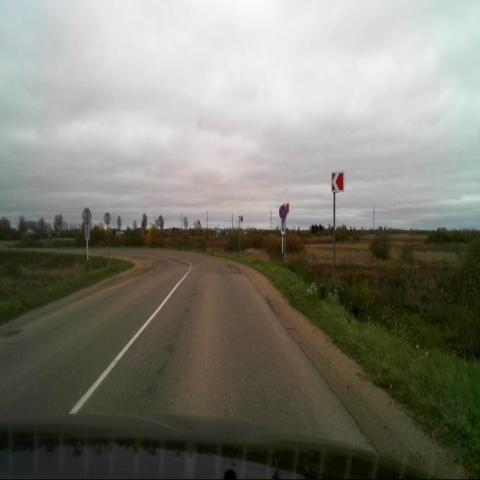3_27: (279, 204, 287, 219)
